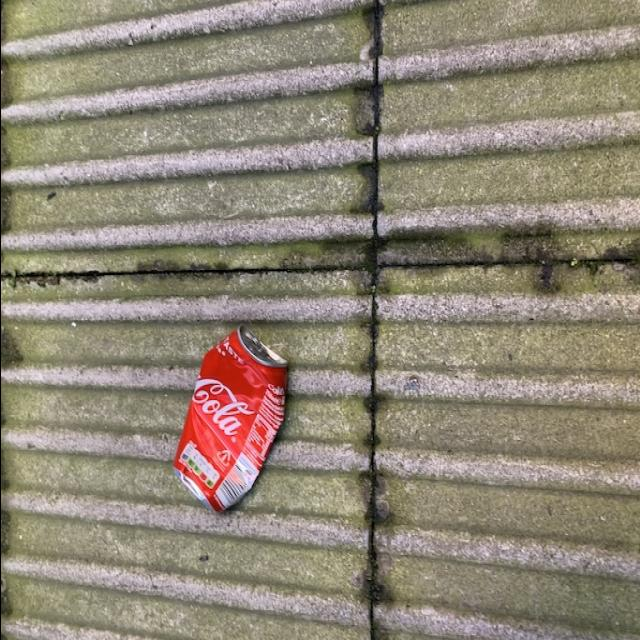Aluminum Can: (156, 325, 294, 527)
